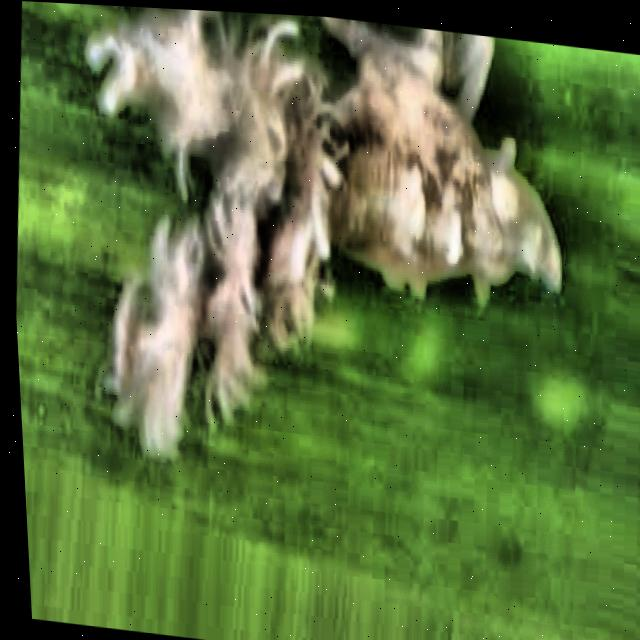Pyrilla-perpusilla: (3, 0, 640, 602)
